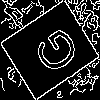G: (25, 24, 82, 82)
